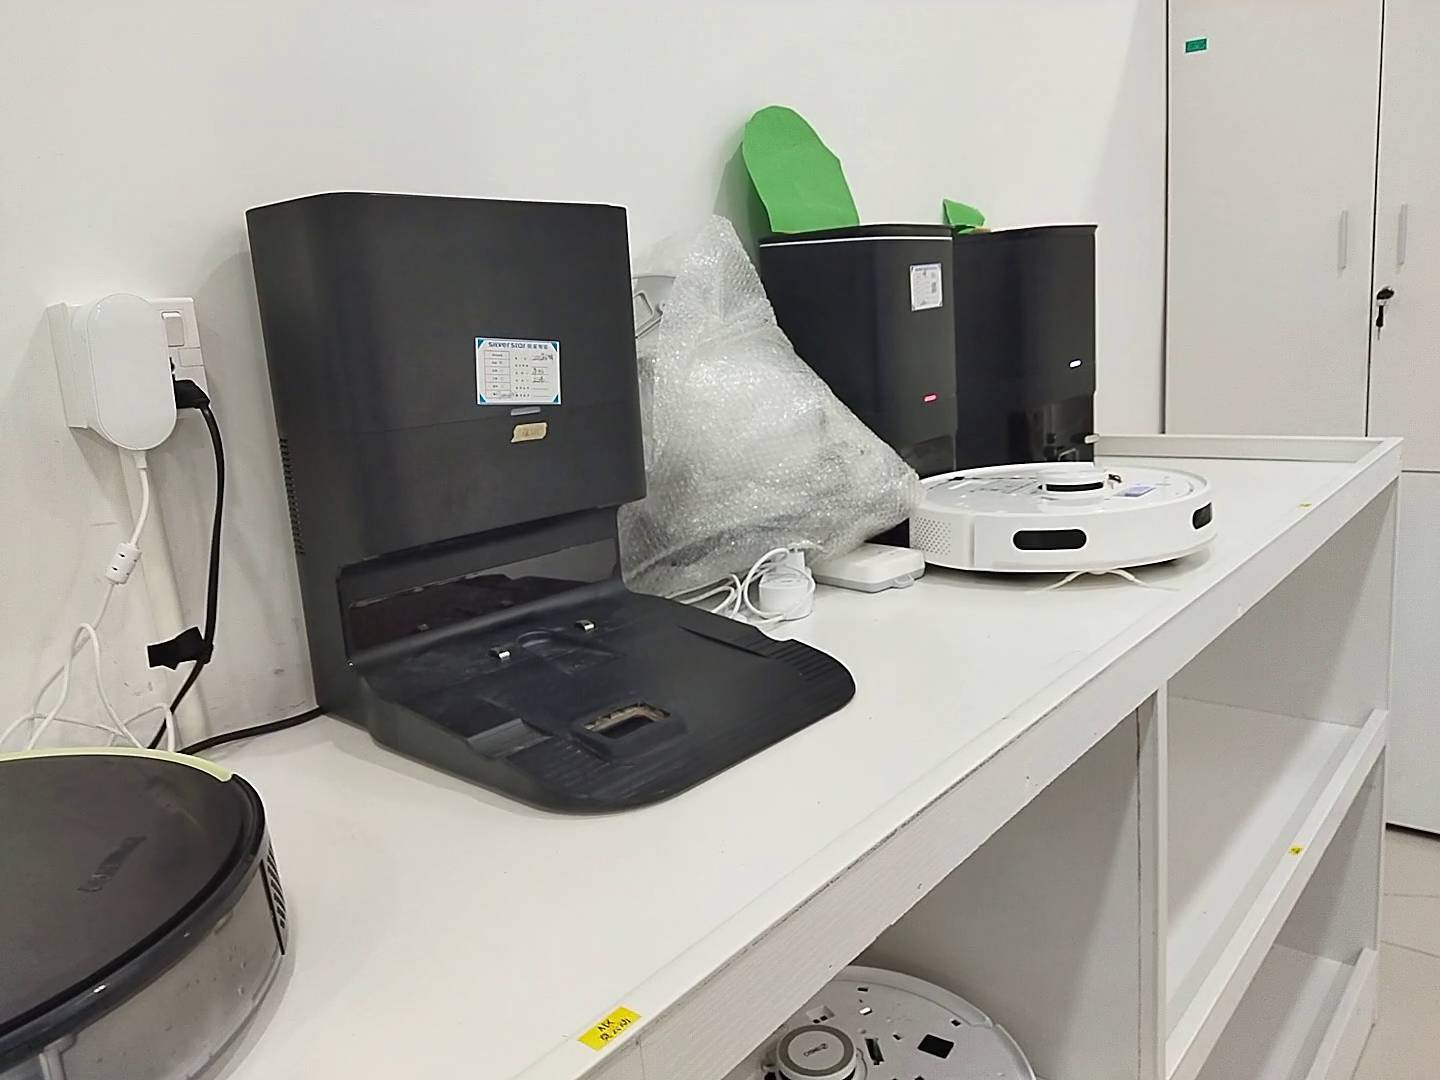dust collecting barrel: (246, 192, 854, 816), (759, 223, 957, 480), (957, 223, 1098, 472)
